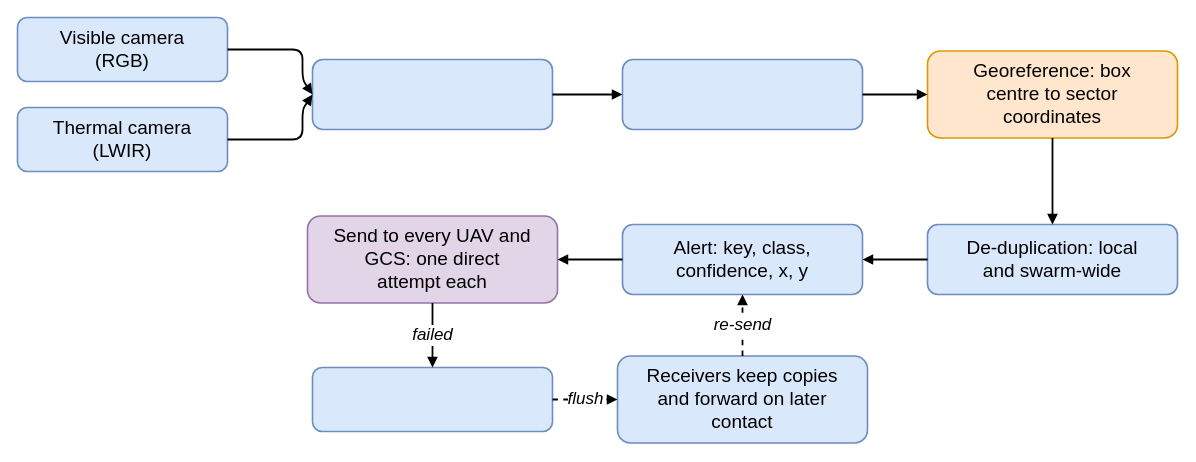
The diagram is 1196 pixels wide and 462 high, and some of its shapes have lost their labels. The box of each missing label's shape, as (x1, y1, x2, y2) in pixels:
Early fusion: stack to a 4-channel tensor: (311, 58, 553, 130)
QoS-1 buffer per recipient: (311, 366, 553, 432)
YOLO11s detector, 1280 px, conf. 0.20: (621, 58, 863, 130)
